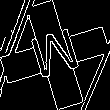M_S: (26, 24, 84, 86)
